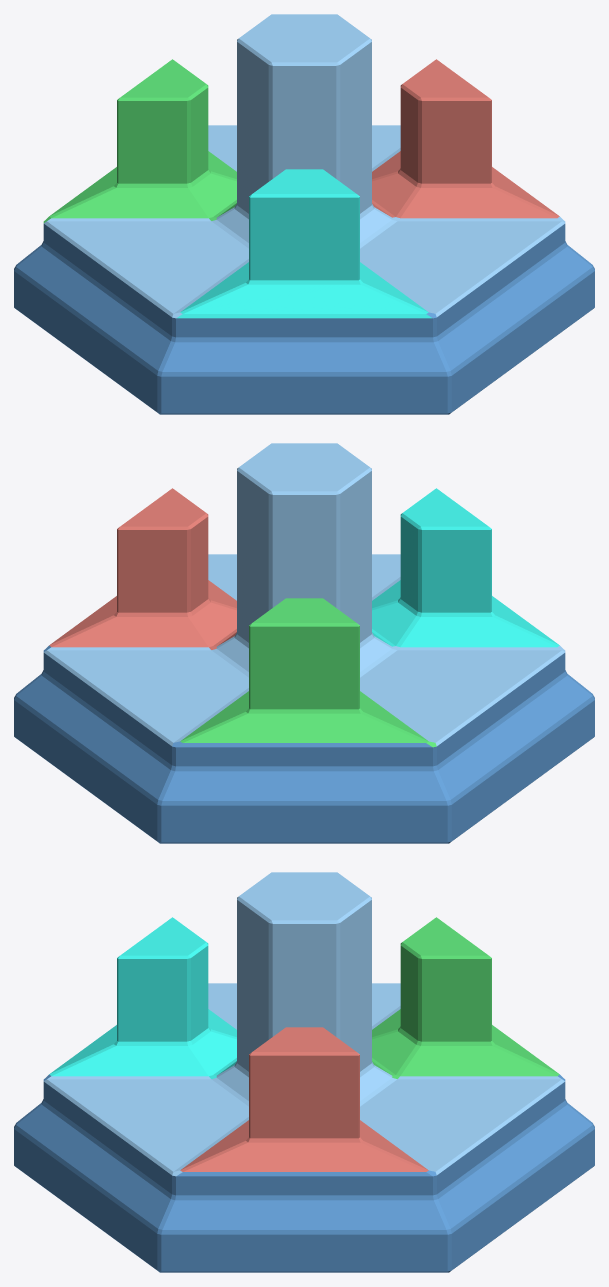
The model's file is Extra 2.fbx.
3 renders of one model, top to bottom at view 1: azimuth 30°, elevation 25°; view 2: azimuth 150°, elevation 25°; view 3: azimuth 270°, elevation 25°, orthographic.
Parts seen in each view (by area): view 1: Extra 2; view 2: Extra 2; view 3: Extra 2.
Boxes of the visible parts, box(x1,y1,x2,y2) form: Extra 2: box(14, 14, 594, 414); Extra 2: box(14, 443, 594, 843); Extra 2: box(14, 872, 594, 1272).
Size of the model in its own units: 193 by 114 by 222.
